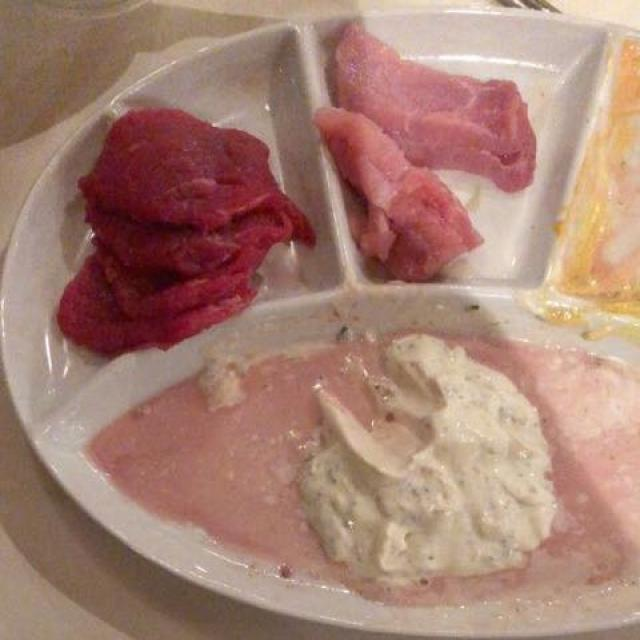mayonnaise: (139, 333, 557, 583)
pork: (324, 36, 545, 290)
